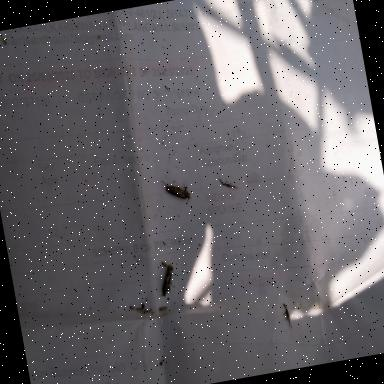pbw: (161, 176, 193, 208), (156, 263, 178, 297)
